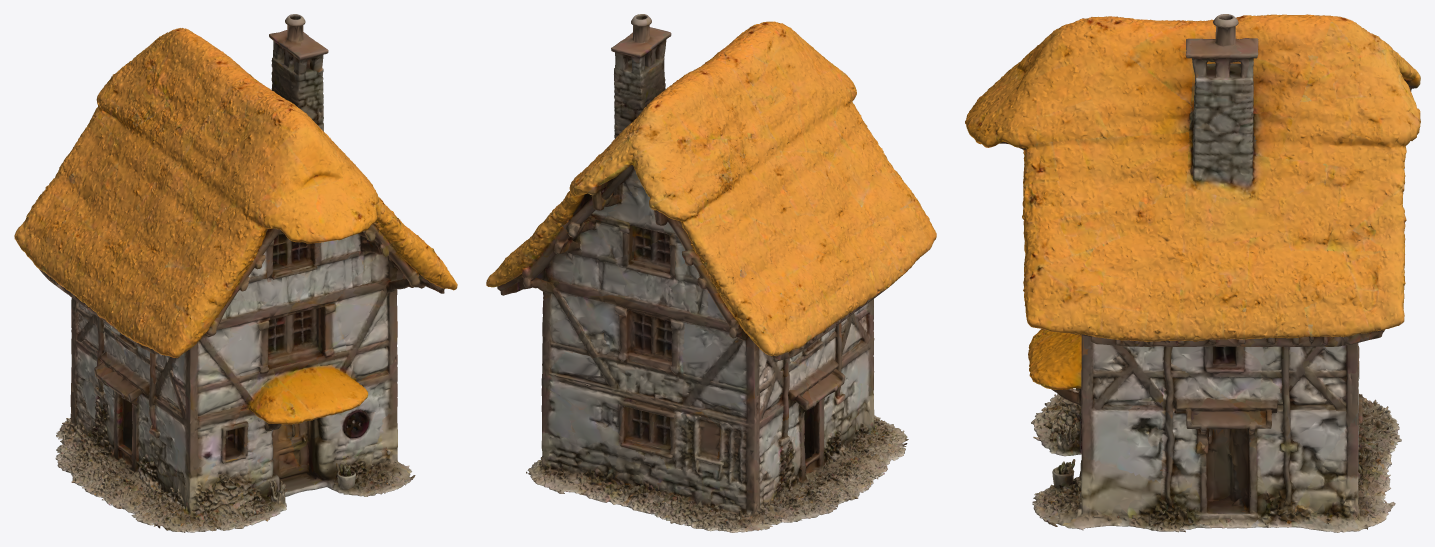
Rendered from building12.glb.
3 views of the same model, side by side, from view 1: azimuth 30°, elevation 25°; view 2: azimuth 150°, elevation 25°; view 3: azimuth 270°, elevation 25° (orthographic). The views are drawn at different scales.
Bounding box in the file's own units: 1.44 × 1.9 × 1.63.
1 material, 1 textured.
